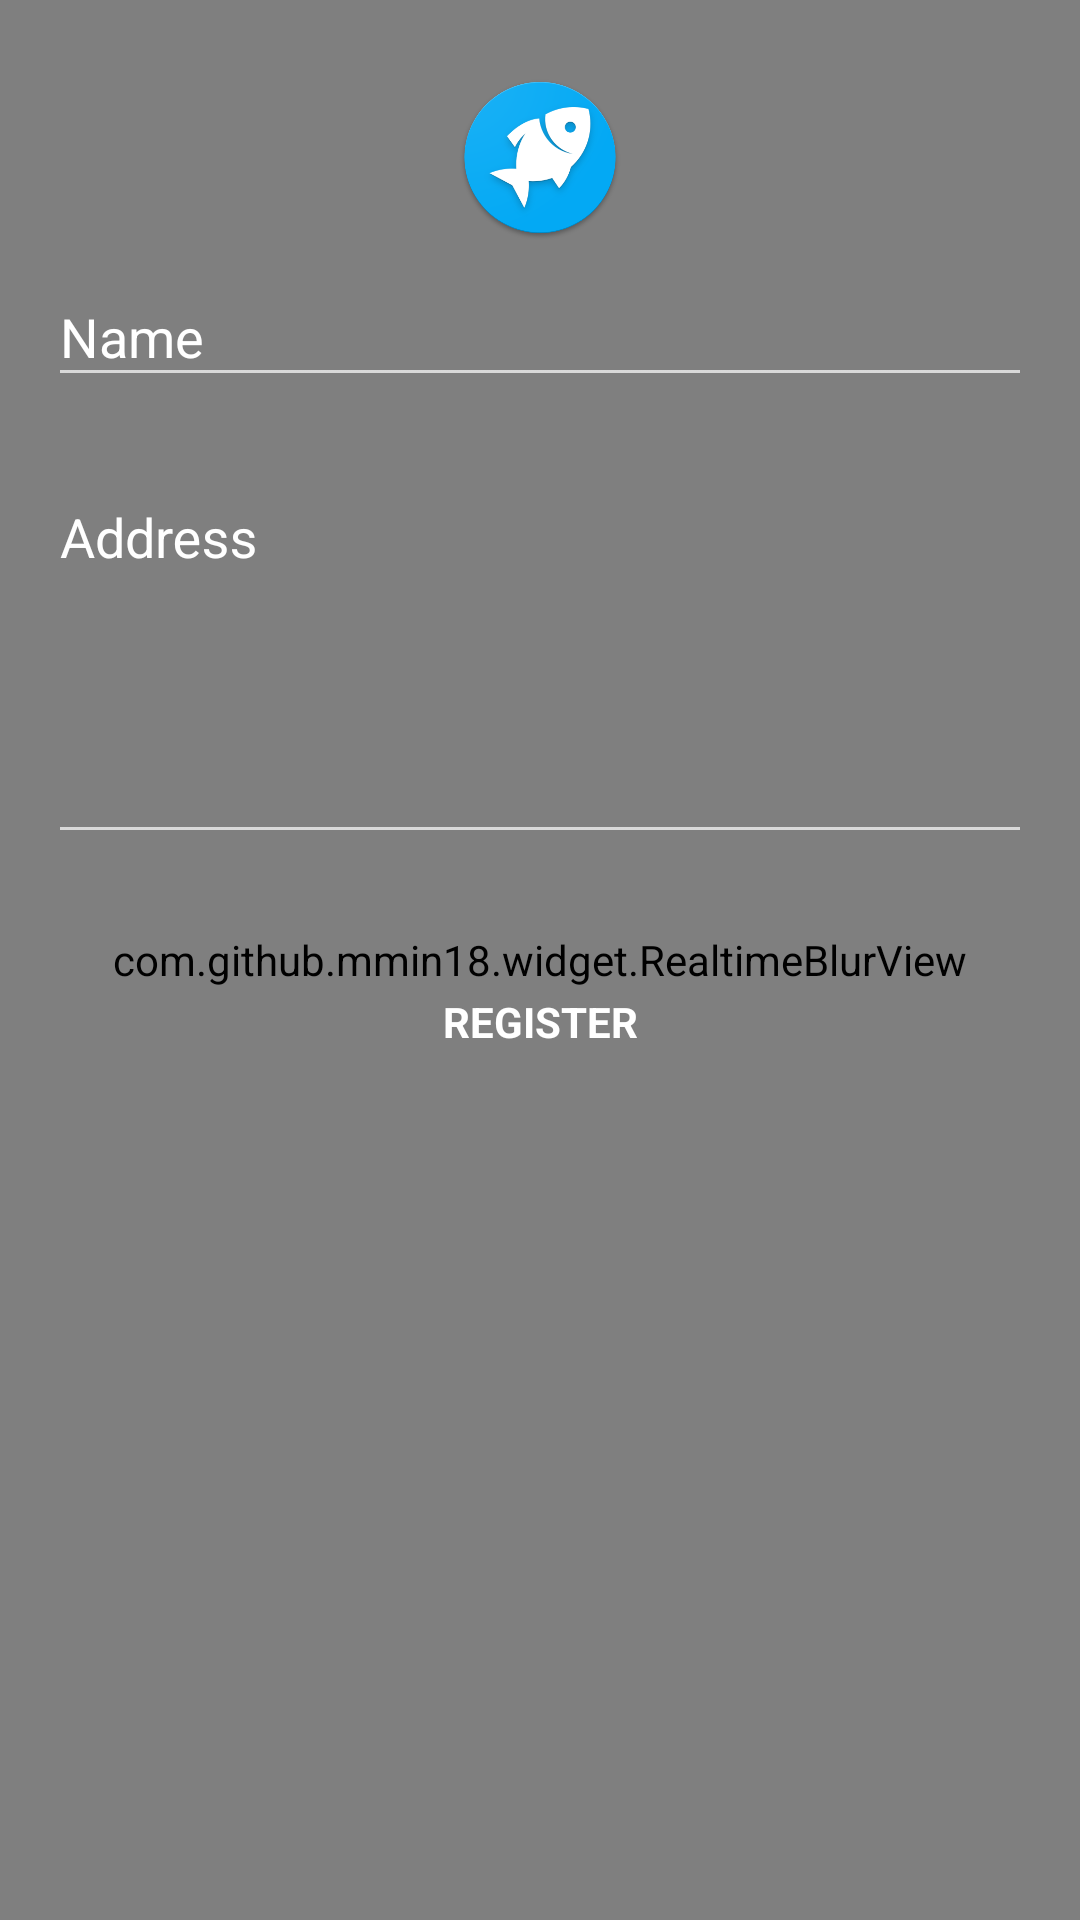

Named icons in this screenshot (1080px×1920px) and their bounding boxes, (x1, y1, x2, y2):
fish round: (464, 82, 616, 235)
